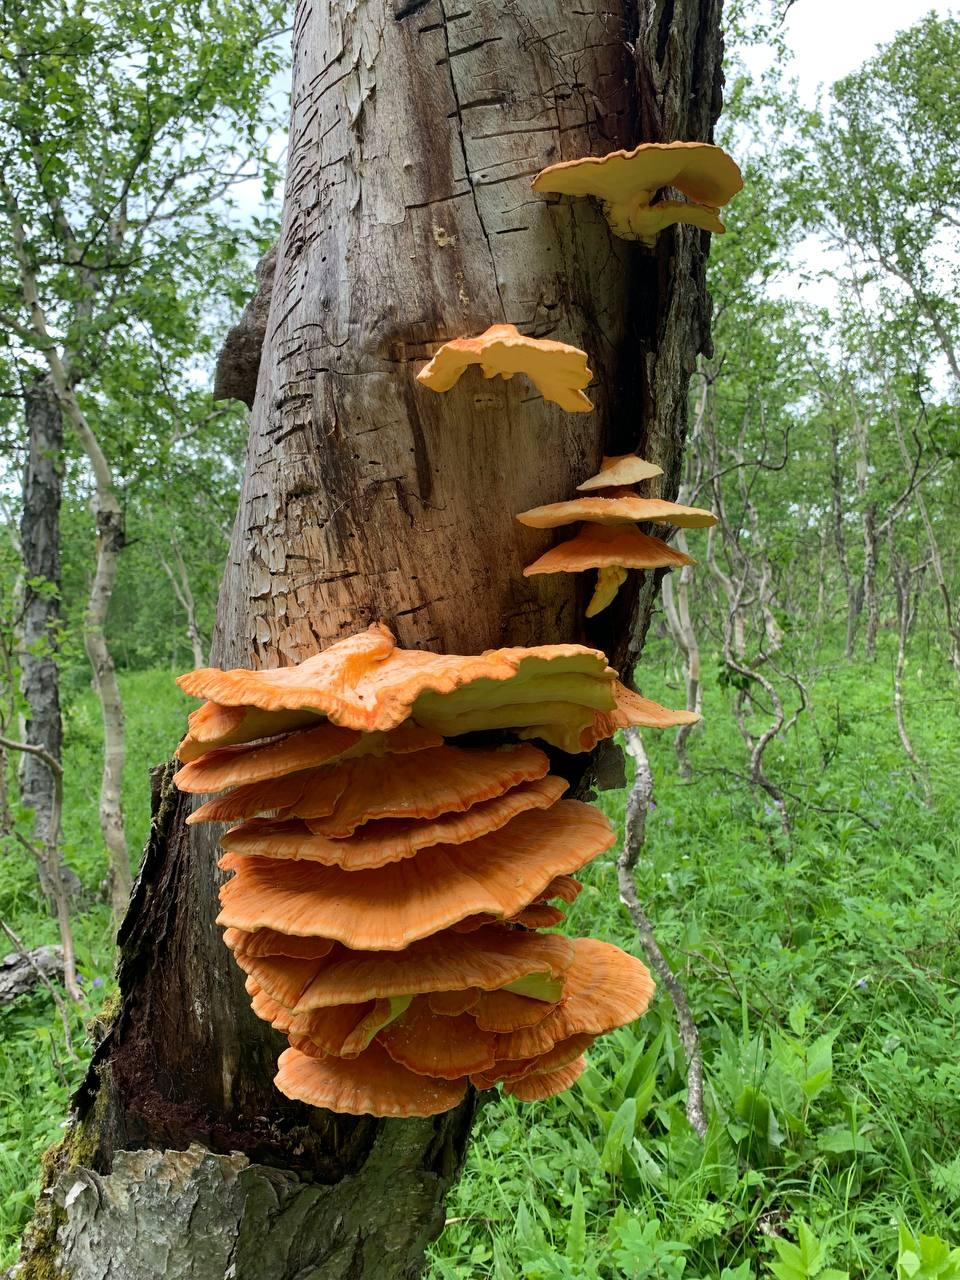Sulphur-yellow tinder fungus: (168, 620, 723, 1127), (520, 112, 770, 268), (511, 443, 722, 622), (393, 305, 608, 423)
